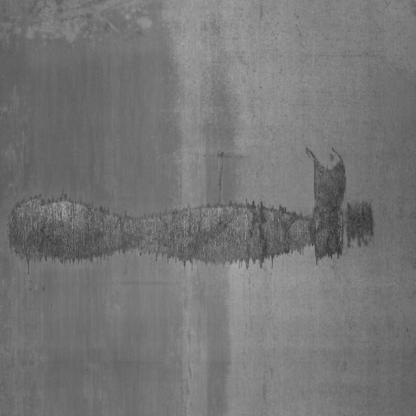rolled_pit: (4, 139, 381, 289)
